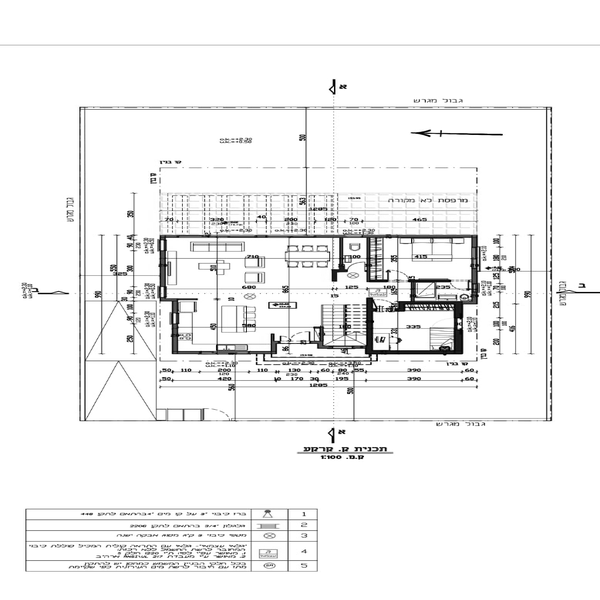door: (383, 265, 407, 283), (344, 257, 369, 274)
room: (157, 233, 369, 313), (169, 299, 381, 354), (367, 230, 480, 307), (365, 298, 463, 355)
wall: (161, 232, 368, 242), (466, 238, 484, 304), (368, 233, 484, 243), (176, 348, 281, 359), (363, 293, 377, 352), (374, 347, 448, 357), (451, 304, 465, 352), (363, 234, 377, 282), (332, 238, 347, 281), (315, 342, 364, 352), (157, 249, 169, 286), (407, 275, 454, 284)
